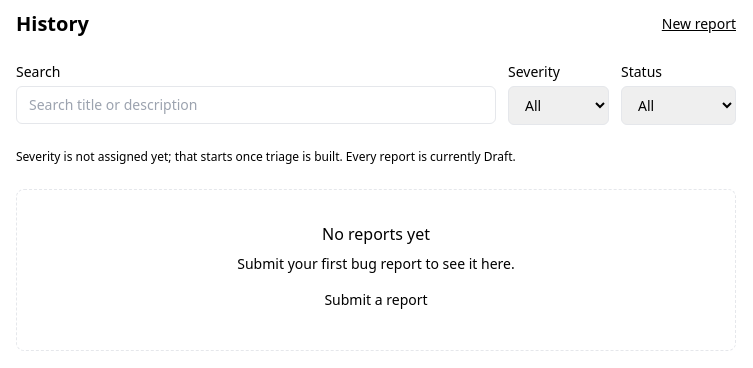
Scenario: History › shows a different empty message when filters produce no matches
Expected: the text "No reports yet" is shown, [322,222,430,246]
Step 1. Select "Critical" in the dropdown labelled "Severity" → [558, 106], box [508,86,609,125]
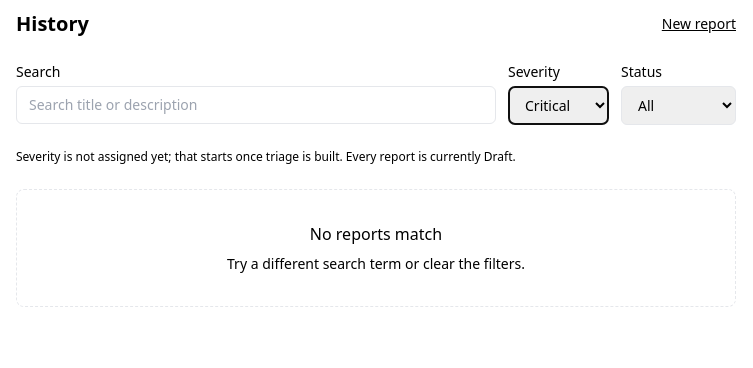
Expected: the text "No reports match" is shown, [310,222,442,246]
